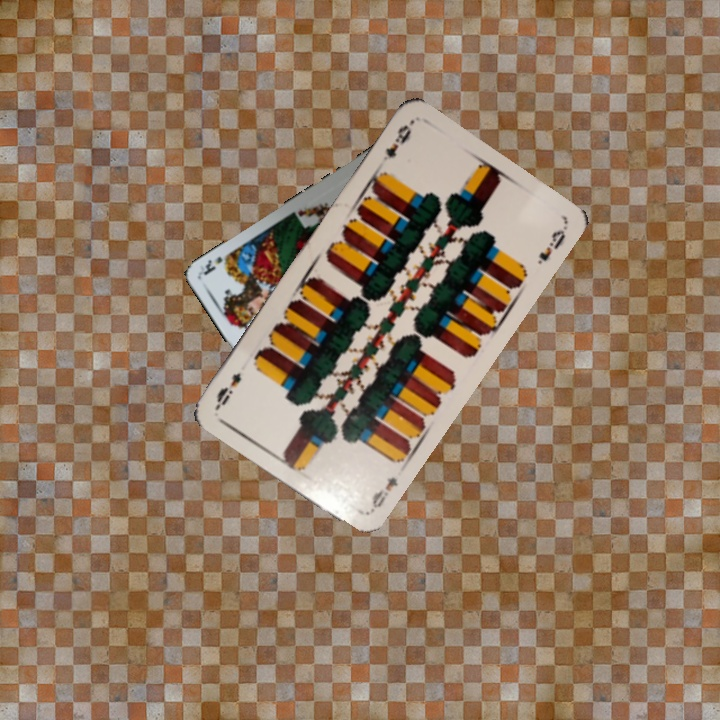E9: (378, 118, 415, 164), (365, 472, 401, 516)
